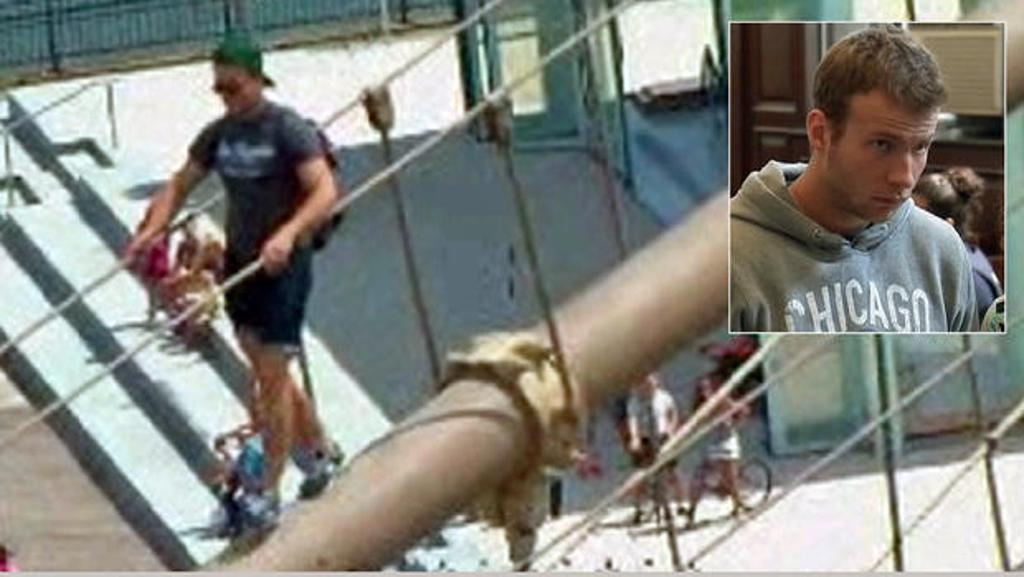face: (823, 103, 938, 220), (214, 61, 255, 112), (637, 369, 657, 394), (703, 379, 718, 401)
